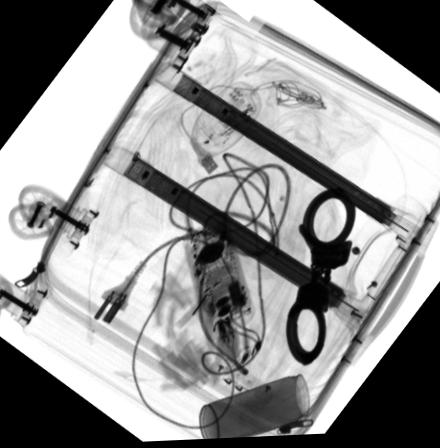HandCuffs: (283, 186, 356, 368)
